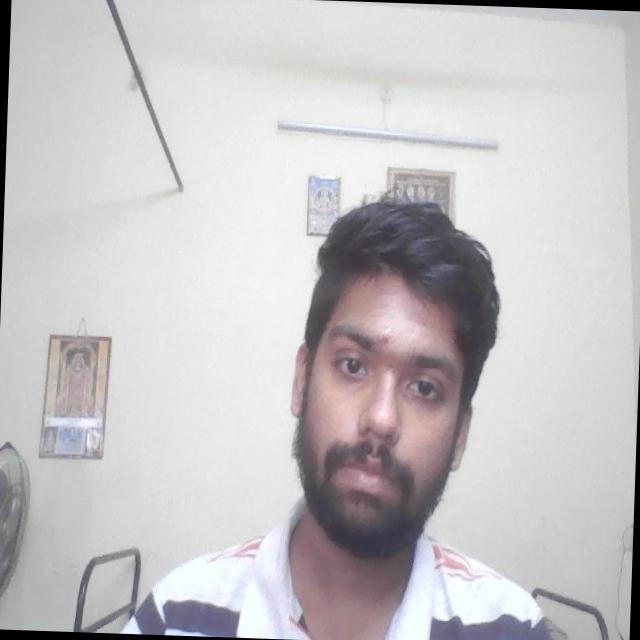Focused: (284, 276, 474, 512)
